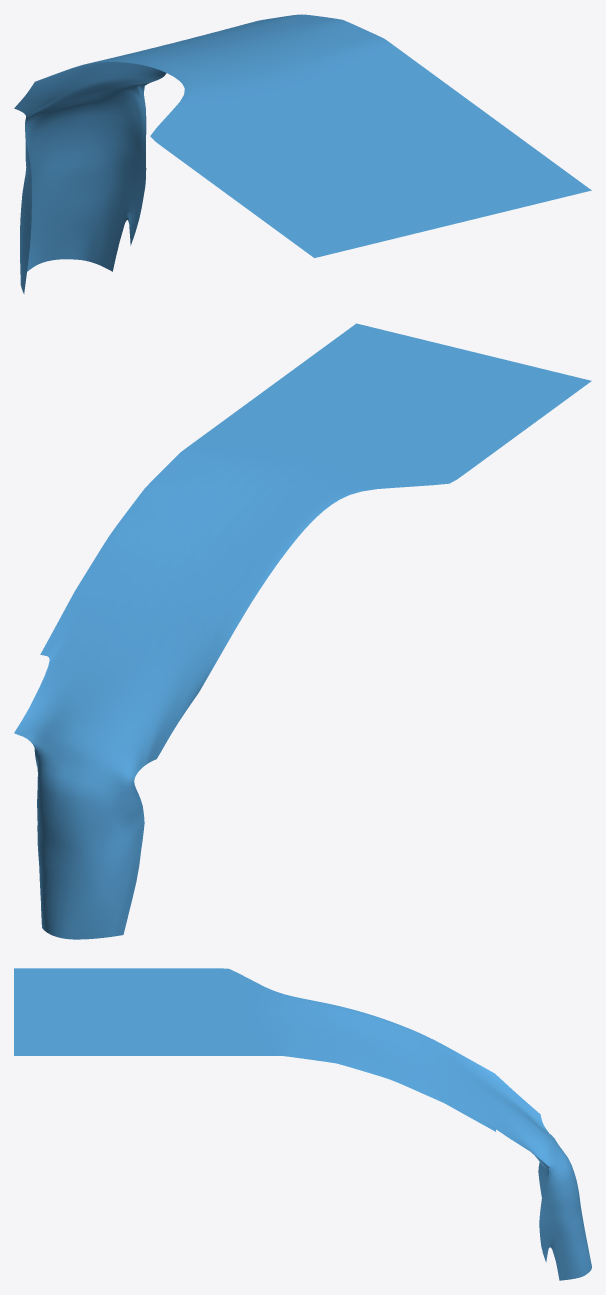
The model's file is rev 1.fbx.
The picture shows the model from 3 angles, top to bottom: view 1: azimuth 30°, elevation 25°; view 2: azimuth 150°, elevation 25°; view 3: azimuth 270°, elevation 25°; orthographic projection. The views are drawn at different scales.
Parts seen in each view (by area): view 1: water.004; view 2: water.004; view 3: water.004.
Boxes of the visible parts, x1=… form: water.004: x1=14, y1=14, x2=591, y2=293; water.004: x1=14, y1=323, x2=591, y2=939; water.004: x1=14, y1=968, x2=591, y2=1280.
Bounding box in the file's own units: 1773 × 2298 × 4937.
